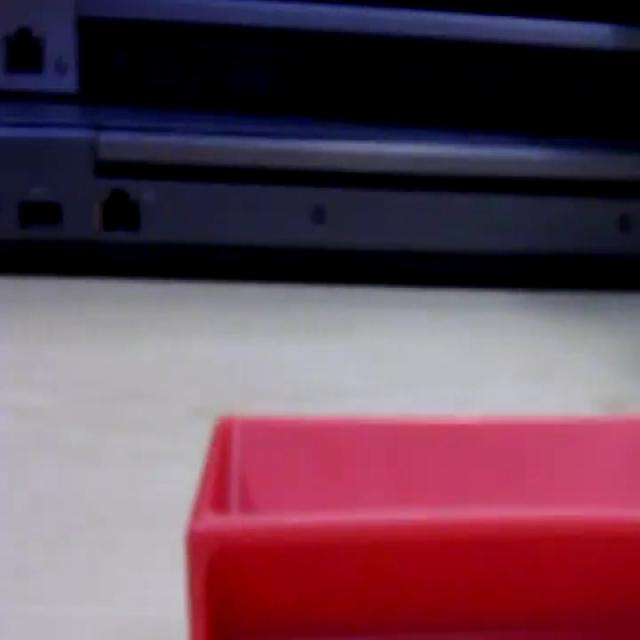red_block: (184, 411, 638, 636)
